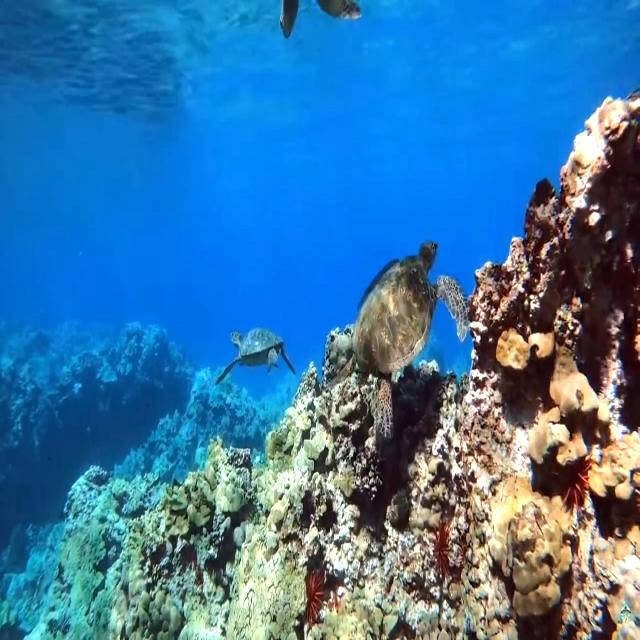Sea turtle: (351, 234, 469, 432)
